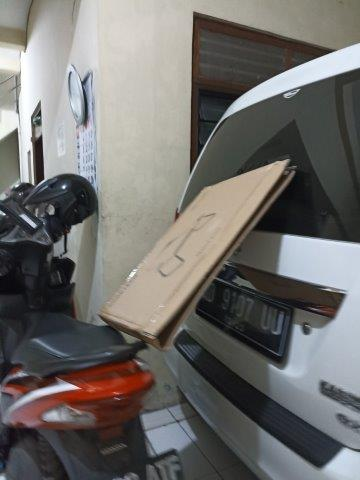kardus: (101, 161, 292, 350)
